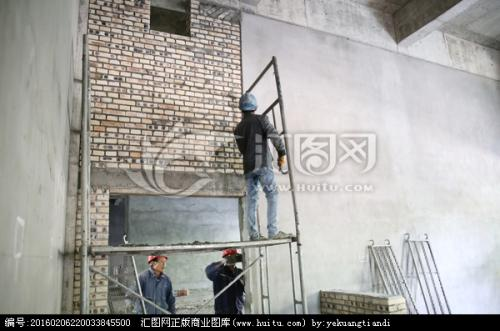boots: (268, 230, 294, 239), (250, 234, 268, 240)
gloves: (276, 155, 289, 174)
hard-hat: (239, 93, 257, 112), (222, 248, 242, 263), (147, 253, 168, 264)
person: (233, 91, 293, 240), (124, 254, 176, 315), (205, 247, 246, 314)
